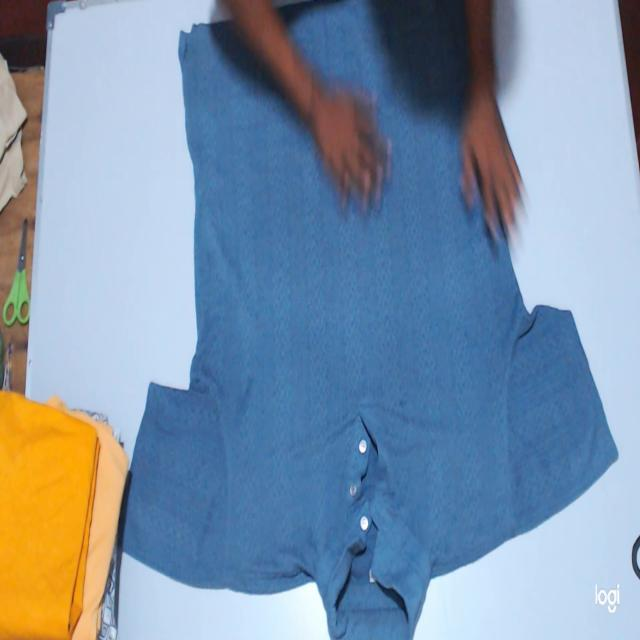new-garment: (123, 0, 617, 639)
